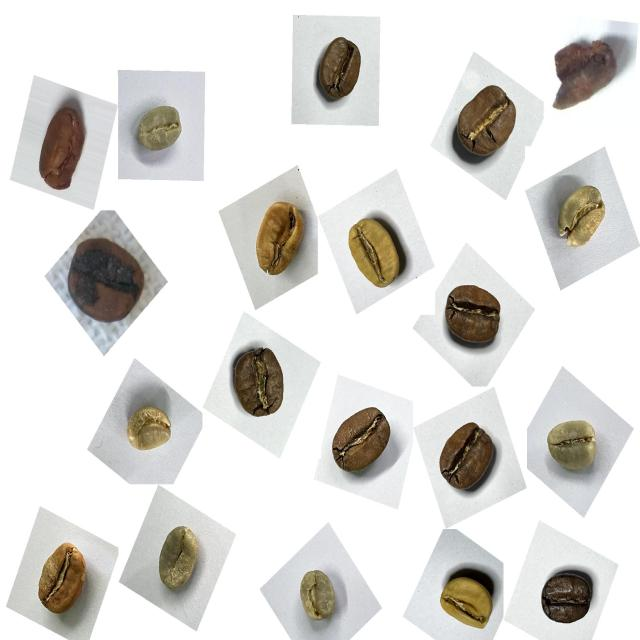bad: (61, 225, 155, 336), (28, 90, 98, 202), (545, 29, 623, 115)
dark: (533, 560, 599, 636)
green: (542, 172, 618, 262), (535, 402, 607, 487), (150, 516, 214, 606), (130, 90, 191, 166), (116, 392, 179, 464), (287, 559, 345, 633)
light: (334, 200, 413, 302), (241, 185, 316, 288), (26, 528, 100, 626), (431, 550, 507, 637)
medium: (316, 395, 402, 486), (448, 77, 529, 171), (223, 340, 301, 434), (428, 409, 504, 504), (435, 270, 513, 359), (307, 28, 372, 116)
